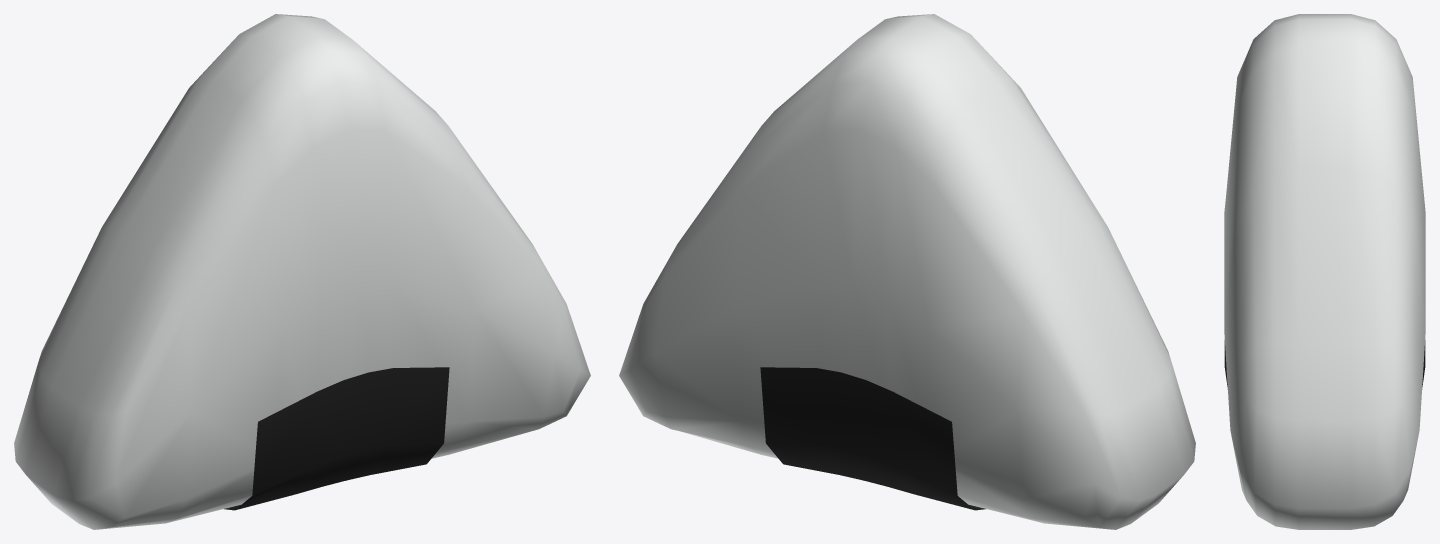
File: quaternius-sushi-restaurant-food-onigiri.glb
The picture shows the model from 3 angles, left to right: view 1: azimuth 30°, elevation 25°; view 2: azimuth 150°, elevation 25°; view 3: azimuth 270°, elevation 25°; orthographic projection. The views are drawn at different scales.
Parts seen in each view (by area): view 1: Food_Onigiri; view 2: Food_Onigiri; view 3: Food_Onigiri.
Boxes of the visible parts, box(x1,y1,x2,y2) form: Food_Onigiri: box(14, 14, 590, 529); Food_Onigiri: box(619, 14, 1195, 529); Food_Onigiri: box(1224, 14, 1425, 529).
Bounding box in the file's own units: 0.5856 × 0.4773 × 0.2075.
Materials: 1 (1 with a texture image).
